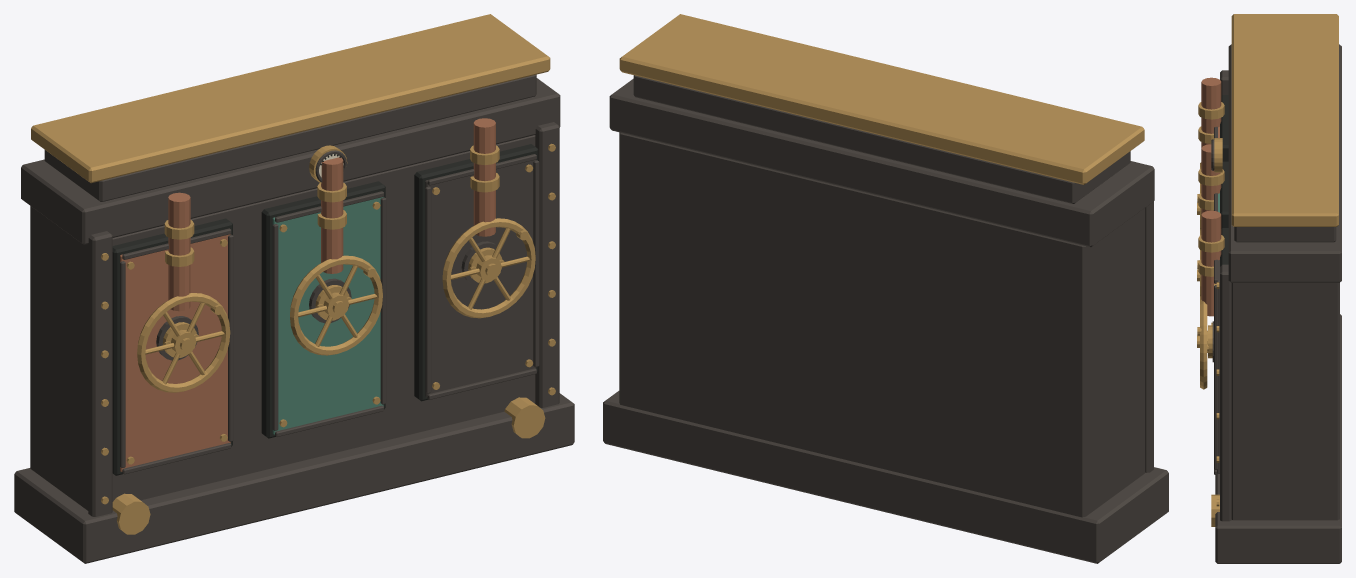
The model's file is manifold.glb.
3 renders of one model, left to right at view 1: azimuth 30°, elevation 25°; view 2: azimuth 150°, elevation 25°; view 3: azimuth 270°, elevation 25°, orthographic. The views are drawn at different scales.
Parts seen in each view (by area): view 1: body-cast iron, body-aged brass, body-copper, body-oxidized copper, body-dark inset, valve-0, valve-2, valve-1; view 2: body-cast iron, body-aged brass; view 3: body-cast iron, body-aged brass, body-copper, body-dark inset, valve-2.
Part boxes in pixels (x1,y1,x2,y2): body-cast iron: (14, 74, 574, 563); body-aged brass: (31, 14, 555, 534); body-copper: (120, 118, 495, 471); body-oxidized copper: (272, 197, 383, 434); body-dark inset: (112, 144, 538, 475); valve-0: (137, 293, 230, 392); valve-2: (442, 218, 535, 318); valve-1: (290, 255, 382, 355); body-cast iron: (603, 75, 1168, 563); body-aged brass: (619, 14, 1144, 184); body-cast iron: (1211, 44, 1341, 563); body-aged brass: (1198, 14, 1338, 526); body-copper: (1201, 77, 1221, 316); body-dark inset: (1220, 95, 1228, 266); valve-2: (1197, 295, 1207, 389).
Size of the model in its own units: 2.64 by 1.98 by 0.755.
